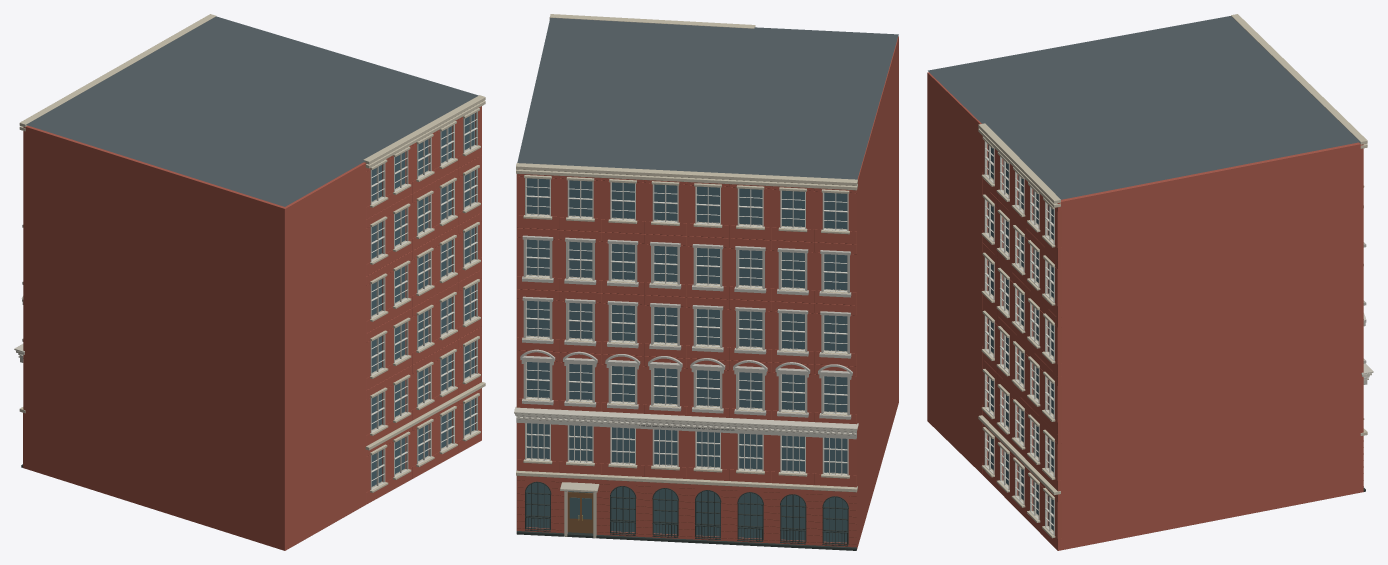
The model's file is sar-exterior-a7c422fcb6b9.glb.
The picture shows the model from 3 angles, left to right: view 1: azimuth 30°, elevation 25°; view 2: azimuth 150°, elevation 25°; view 3: azimuth 270°, elevation 25°; orthographic projection. The views are drawn at different scales.
Parts seen in each view (by area): view 1: SAR.001; view 2: SAR.001; view 3: SAR.001.
Part boxes in pixels (box(x1,y1,x2,y2)): SAR.001: box(14, 14, 485, 550); SAR.001: box(514, 14, 898, 550); SAR.001: box(927, 14, 1373, 550).
Bounding box in the file's own units: 26.64 × 23.15 × 26.67.
